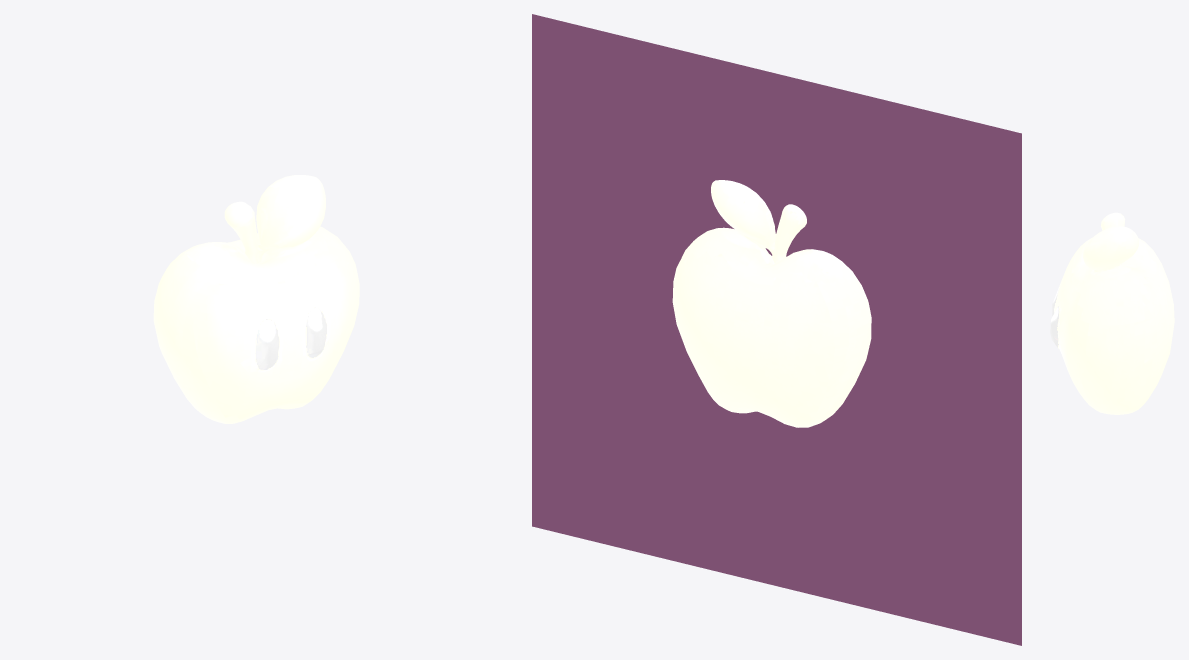
File: golden-apple-cube.glb
3 views of the same model, side by side, from view 1: azimuth 30°, elevation 25°; view 2: azimuth 150°, elevation 25°; view 3: azimuth 270°, elevation 25° (orthographic). The views are drawn at different scales.
Visible parts, largest first — view 1: golden apple cube; view 2: glow, golden apple cube; view 3: golden apple cube.
Boxes of the visible parts, bbox=[...] form: golden apple cube: bbox=[153, 175, 359, 423]; glow: bbox=[532, 14, 1021, 645]; golden apple cube: bbox=[672, 180, 871, 427]; golden apple cube: bbox=[1050, 212, 1174, 414].
Bounding box in the file's own units: 2.25 × 2.25 × 0.5884.
2 materials, 2 textured.
